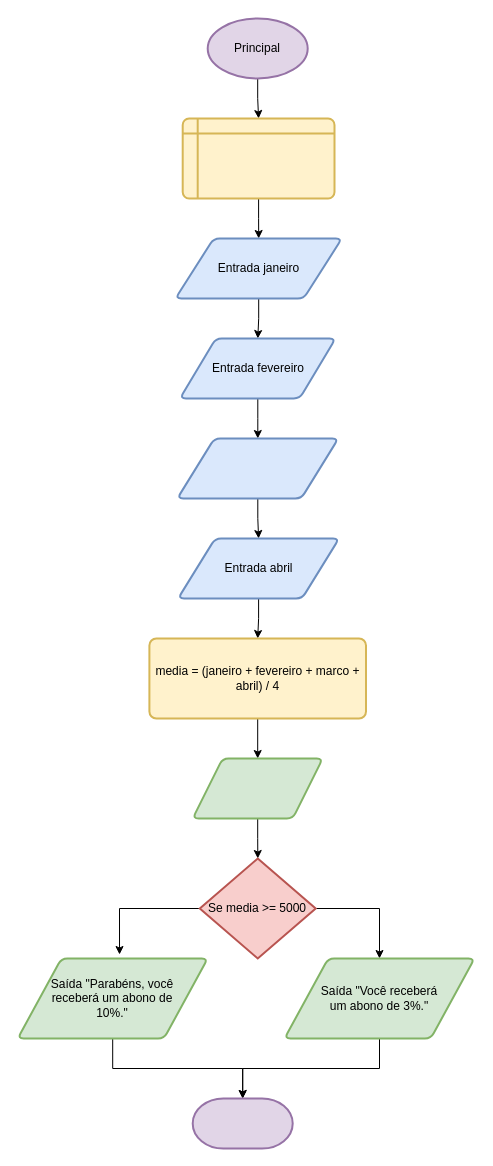
The diagram is 493 pixels wide and 1166 high, and some of its shapes have lost their labels. The shapes that lost their labels are listed below. From the top down, each one's centre as x and y in pixels, then its label:
(258,158): Real janeirio, fevereiro, marco, abil, media
(257,468): Entrada marco
(257,788): Saída média
(242,1123): Fim
